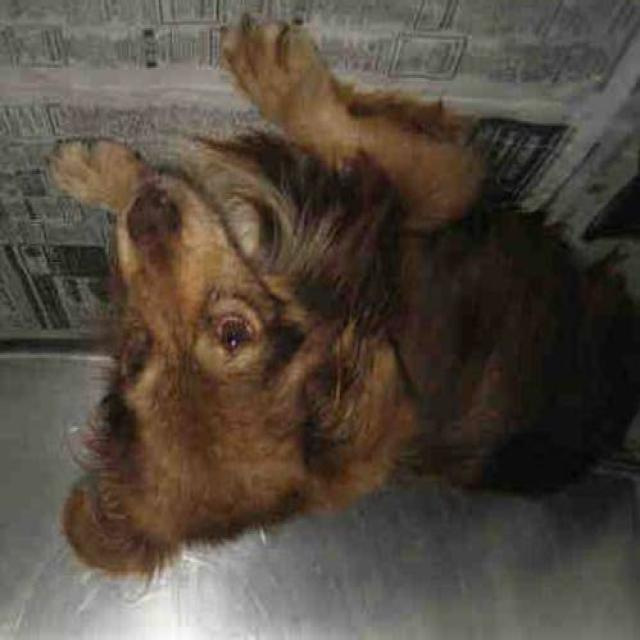dog: (33, 20, 640, 602)
